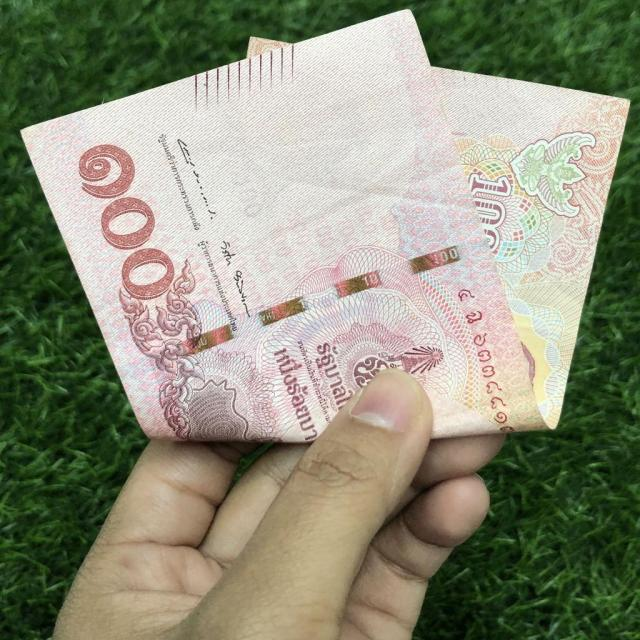THAI100: (21, 9, 629, 446)
